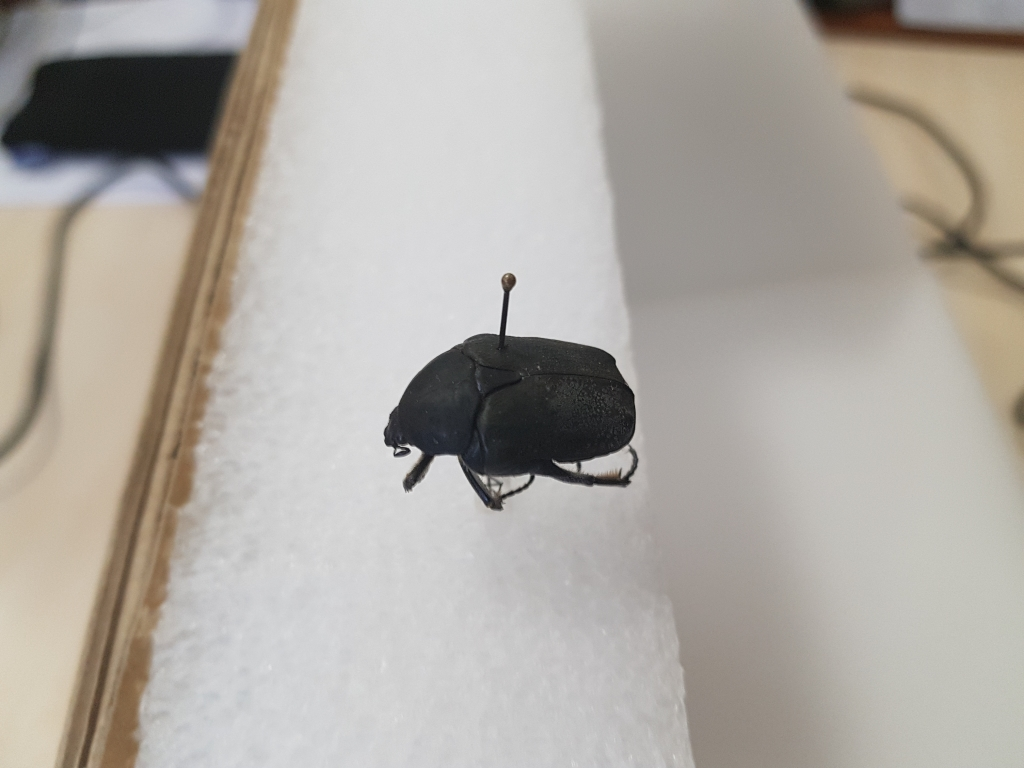Protaetia_afflicta: (380, 330, 650, 498)
